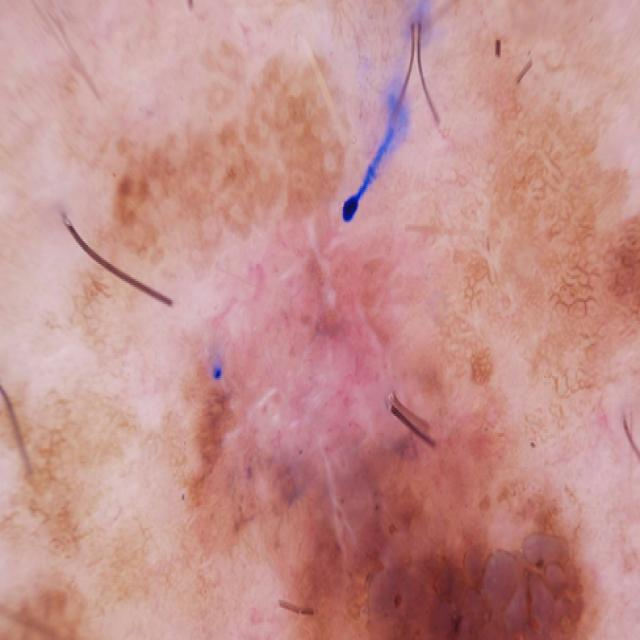Carcinoma: (328, 47, 640, 366), (325, 435, 620, 640), (186, 291, 294, 602)
